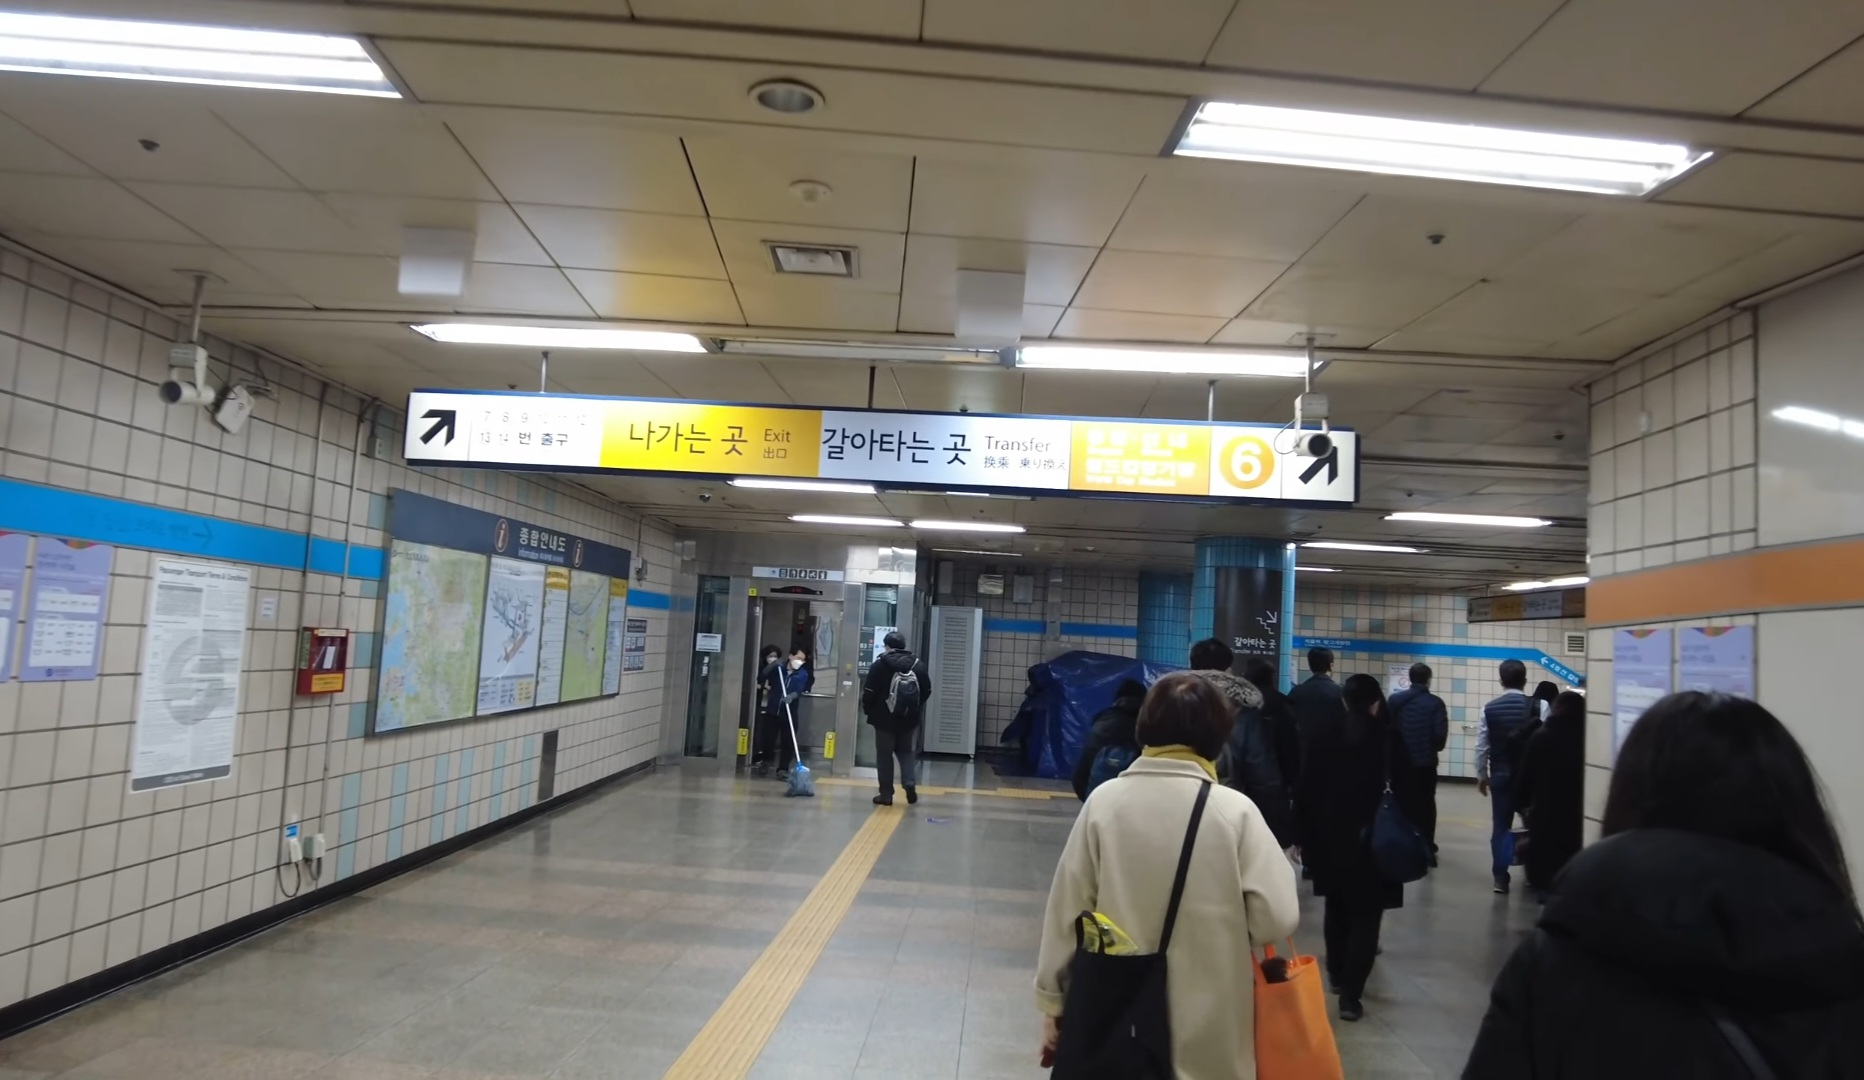signBoard: (396, 383, 1367, 513)
